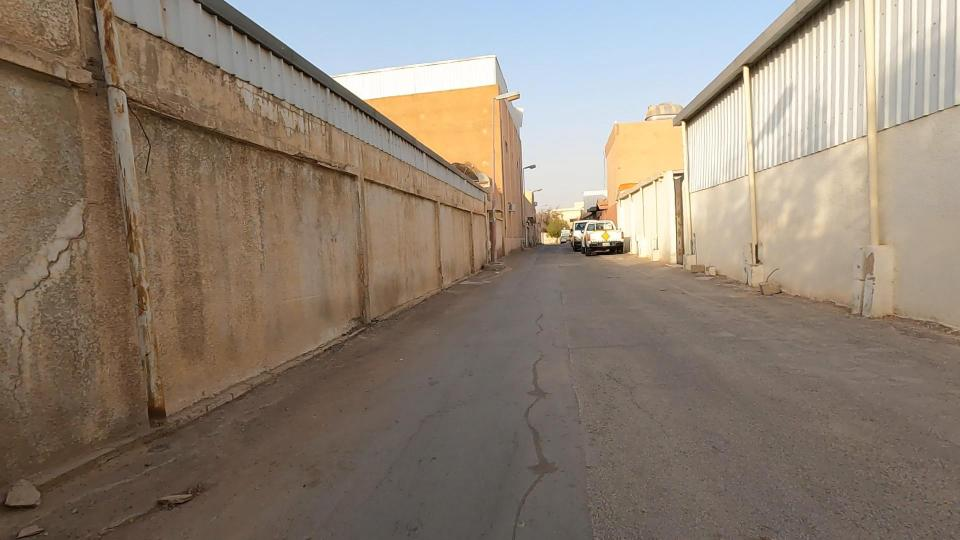POTHOLES: (450, 278, 750, 526), (27, 457, 277, 540)
